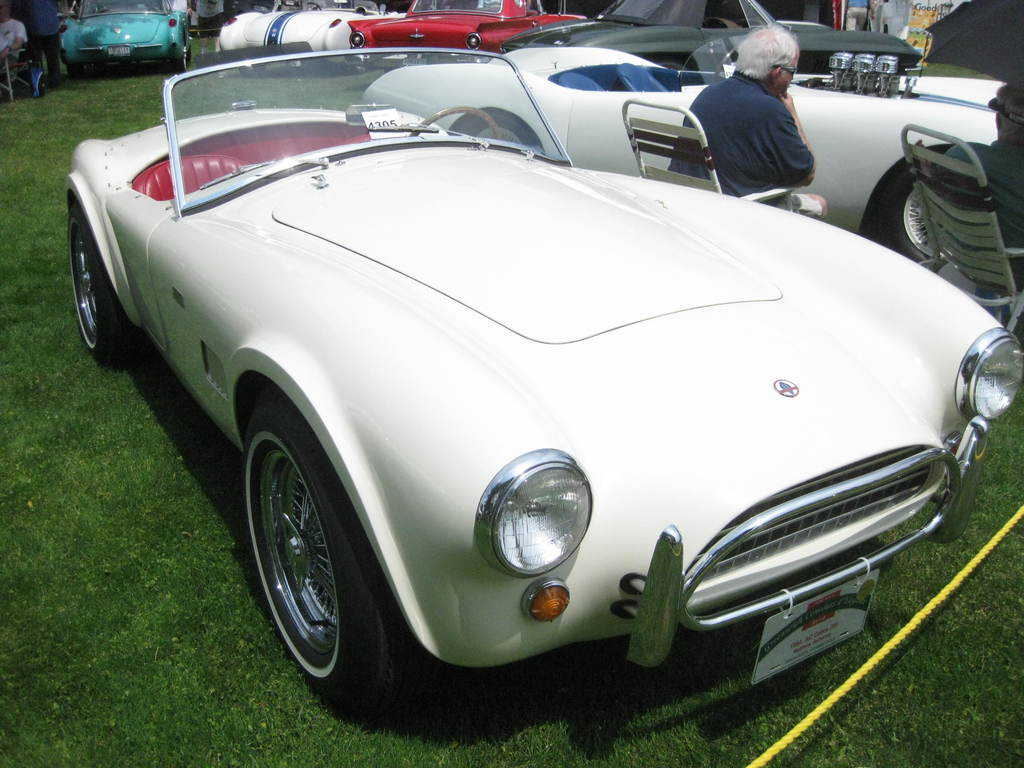Person: (665, 23, 827, 212), (935, 75, 1024, 288), (23, 0, 57, 85), (0, 0, 23, 60), (848, 0, 875, 30)
